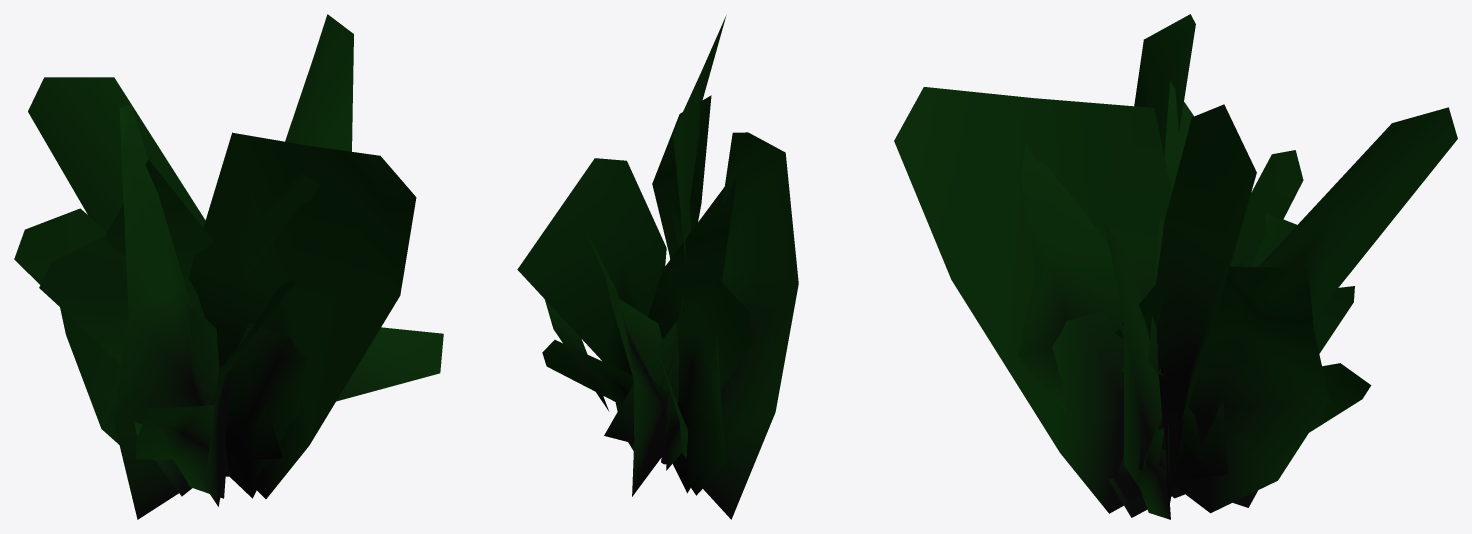
Rendered from GrassTallDryGCATA_D.fbx.
3 renders of one model, left to right at view 1: azimuth 30°, elevation 25°; view 2: azimuth 150°, elevation 25°; view 3: azimuth 270°, elevation 25°, orthographic. The views are drawn at different scales.
Visible parts, largest first — view 1: GTDD_LOD0; view 2: GTDD_LOD0; view 3: GTDD_LOD0.
Boxes of the visible parts, box(x1,y1,x2,y2) form: GTDD_LOD0: box(14, 14, 443, 519); GTDD_LOD0: box(517, 15, 798, 519); GTDD_LOD0: box(894, 14, 1457, 519).
Size of what is drawn, in the model's own units: 1.7 by 1.94 by 1.99.
